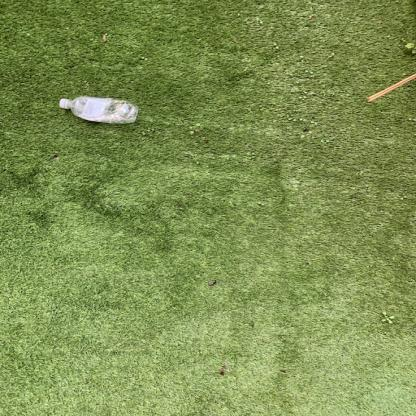trash: (57, 95, 140, 126)
